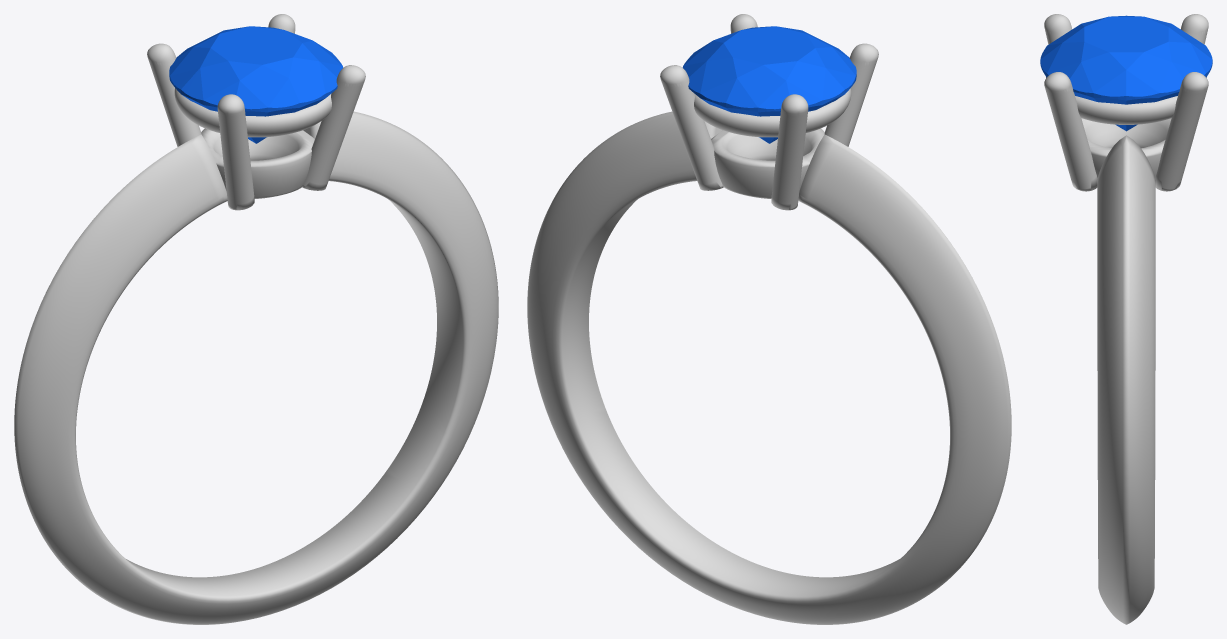
Rendered from bluesapphire-round-platinum-4prong-knifeedge-nosidestones.glb.
3 renders of one model, left to right at view 1: azimuth 30°, elevation 25°; view 2: azimuth 150°, elevation 25°; view 3: azimuth 270°, elevation 25°, orthographic.
Visible parts, largest first — view 1: metal, stone; view 2: metal, stone; view 3: metal, stone.
Part boxes in pixels (<box>): metal: <box>14,14,498,624</box>; stone: <box>169,26,343,143</box>; metal: <box>527,14,1011,624</box>; stone: <box>682,26,856,143</box>; metal: <box>1044,14,1208,624</box>; stone: <box>1040,15,1212,131</box>.
Bounding box in the file's own units: 20.64 × 23.31 × 6.44.
